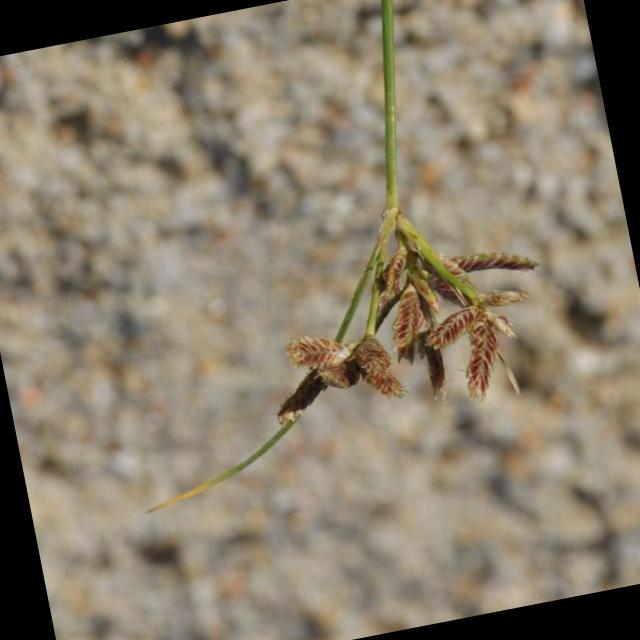cyperus: (220, 181, 582, 458)
